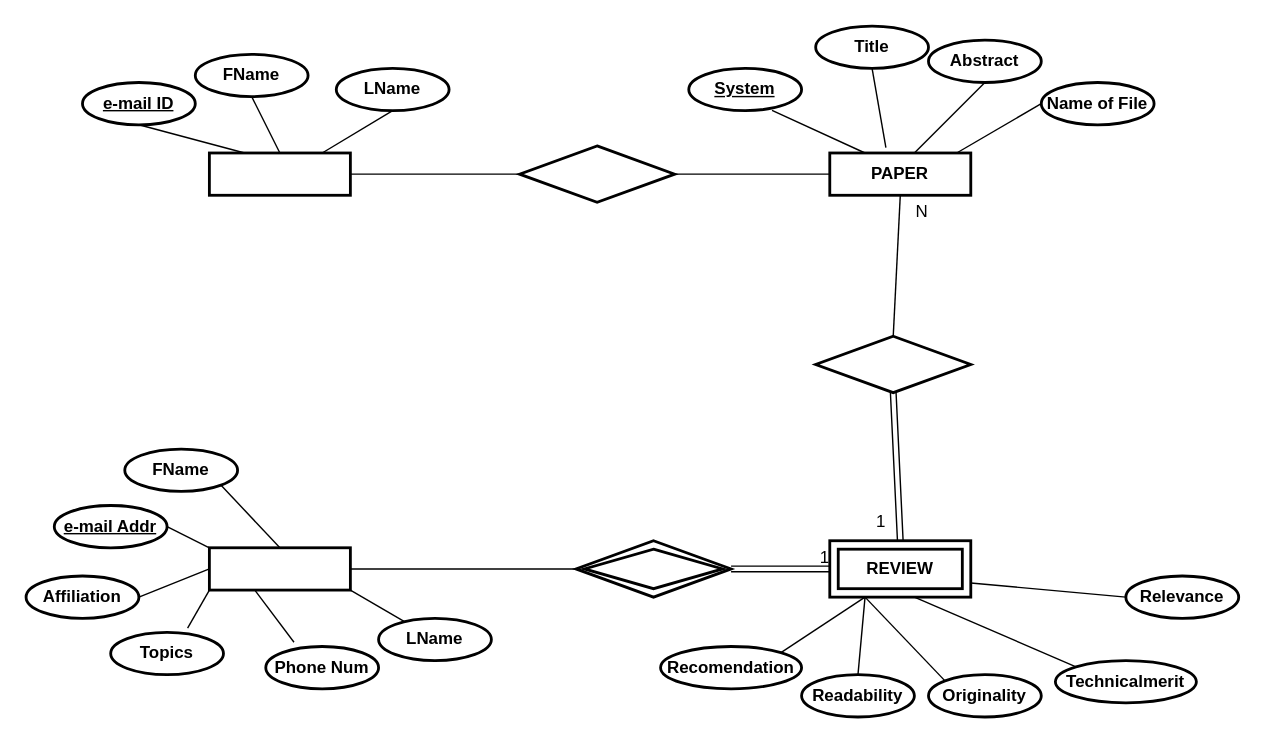
Some shapes in this 1263 by 742 pixel diagram are drawn without their labels. Each missing label, with the centre of its shape:
AUTHOR: the point at 279,173
create: the point at 892,363
has: the point at 653,568
REVIEWER: the point at 279,568
write: the point at 596,173
